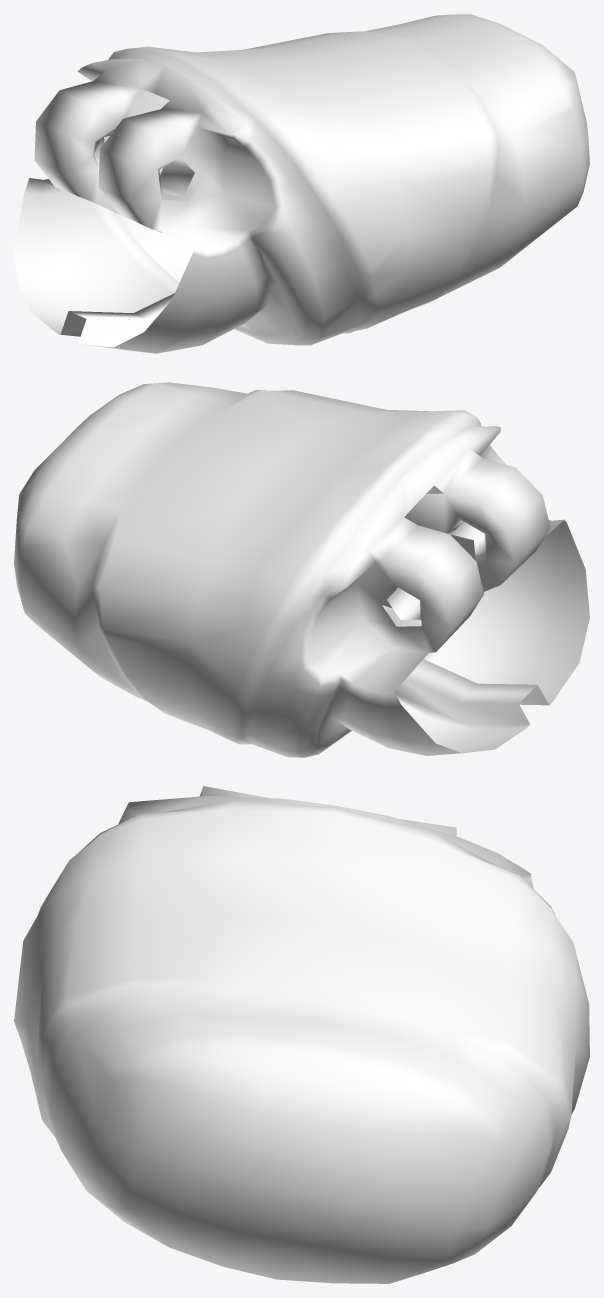
The model's file is LFinger23.dae.
3 renders of one model, top to bottom at view 1: azimuth 30°, elevation 25°; view 2: azimuth 150°, elevation 25°; view 3: azimuth 270°, elevation 25°, orthographic. The views are drawn at different scales.
Visible parts, largest first — view 1: LFinger23; view 2: LFinger23; view 3: LFinger23.
Boxes of the visible parts, bbox=[...] form: LFinger23: bbox=[14, 14, 589, 353]; LFinger23: bbox=[14, 382, 589, 757]; LFinger23: bbox=[14, 786, 589, 1283].
Size of the model in its own units: 0.204 by 0.1614 by 0.1121.
Materials: 1 (1 with a texture image).
